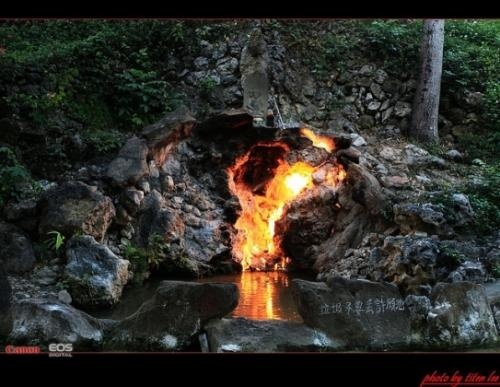fire: (225, 128, 347, 314)
